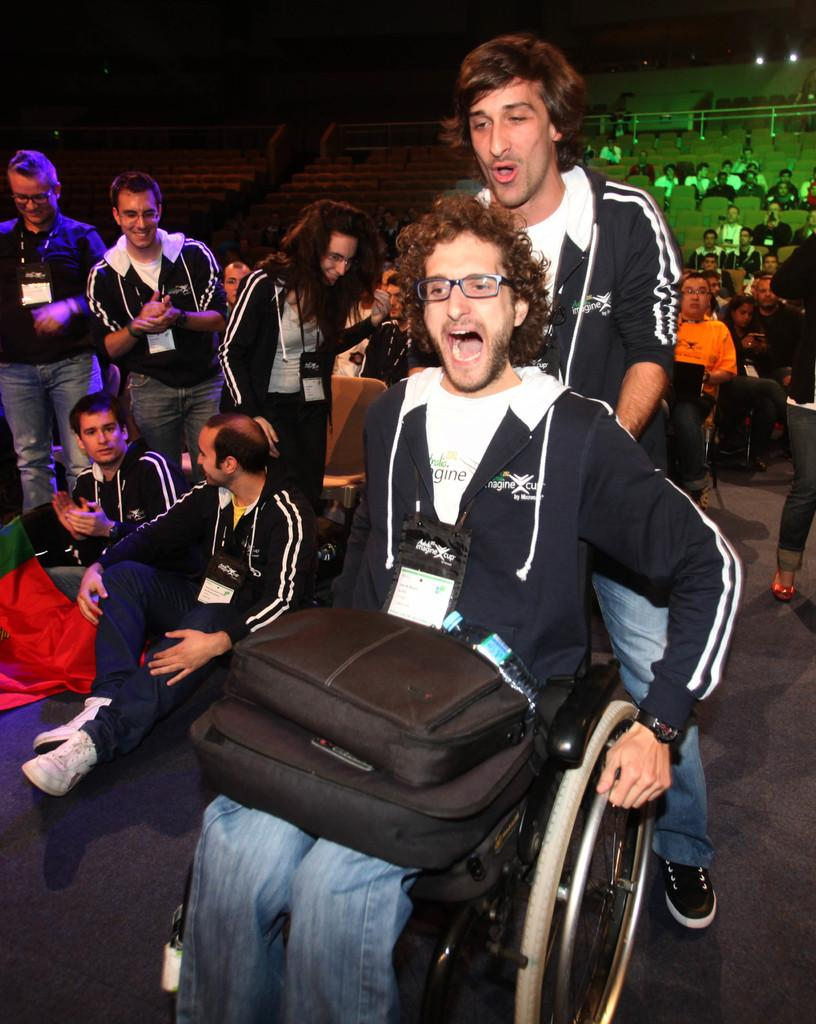Luggage-and-bags: (176, 607, 596, 934)
